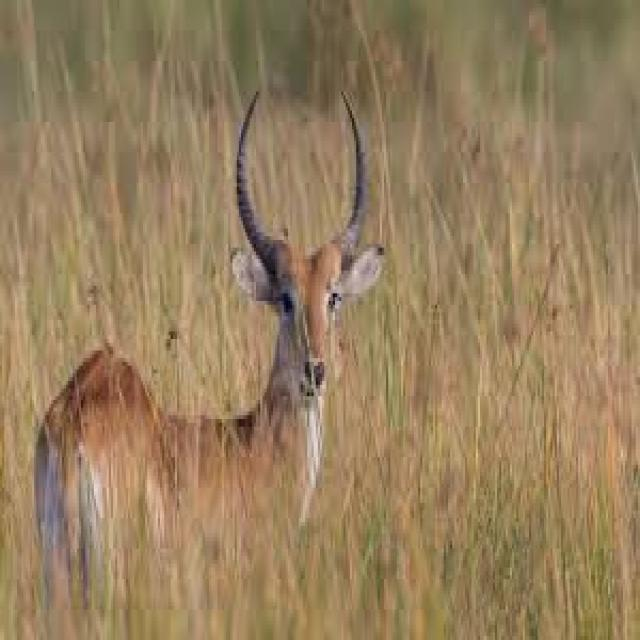Antelope: (28, 83, 389, 624)
